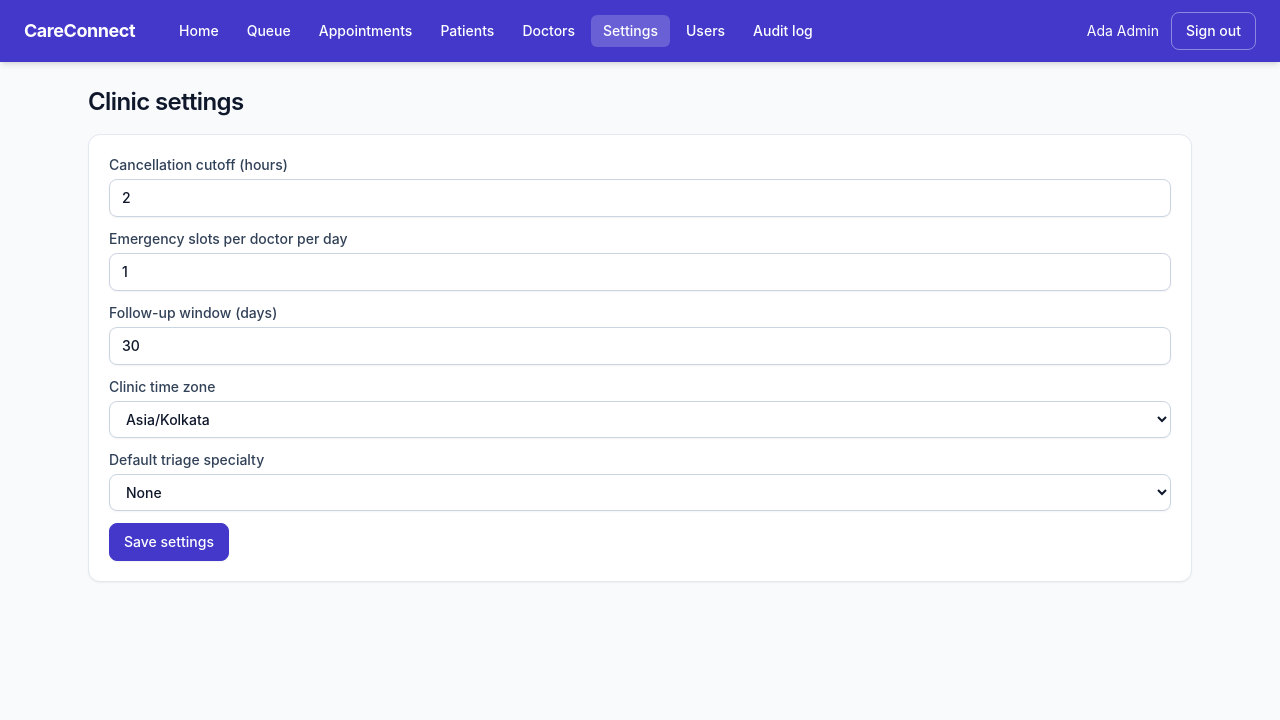
Test: Clinic settings page › can set the default triage specialty
Select "General Medicine" in the dropdown labelled "Default triage specialty" at (640, 492), box [109,474,1171,511]
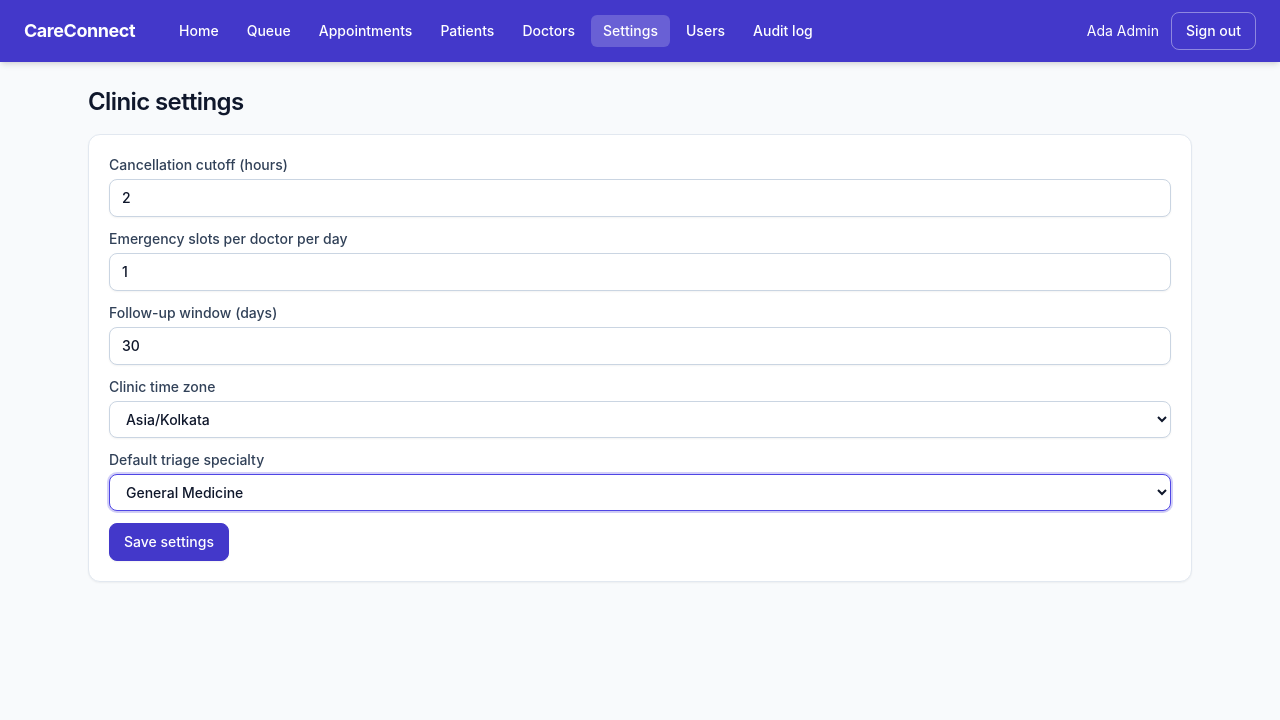
Click the button "Save settings" at (169, 542), box [109,523,229,561]
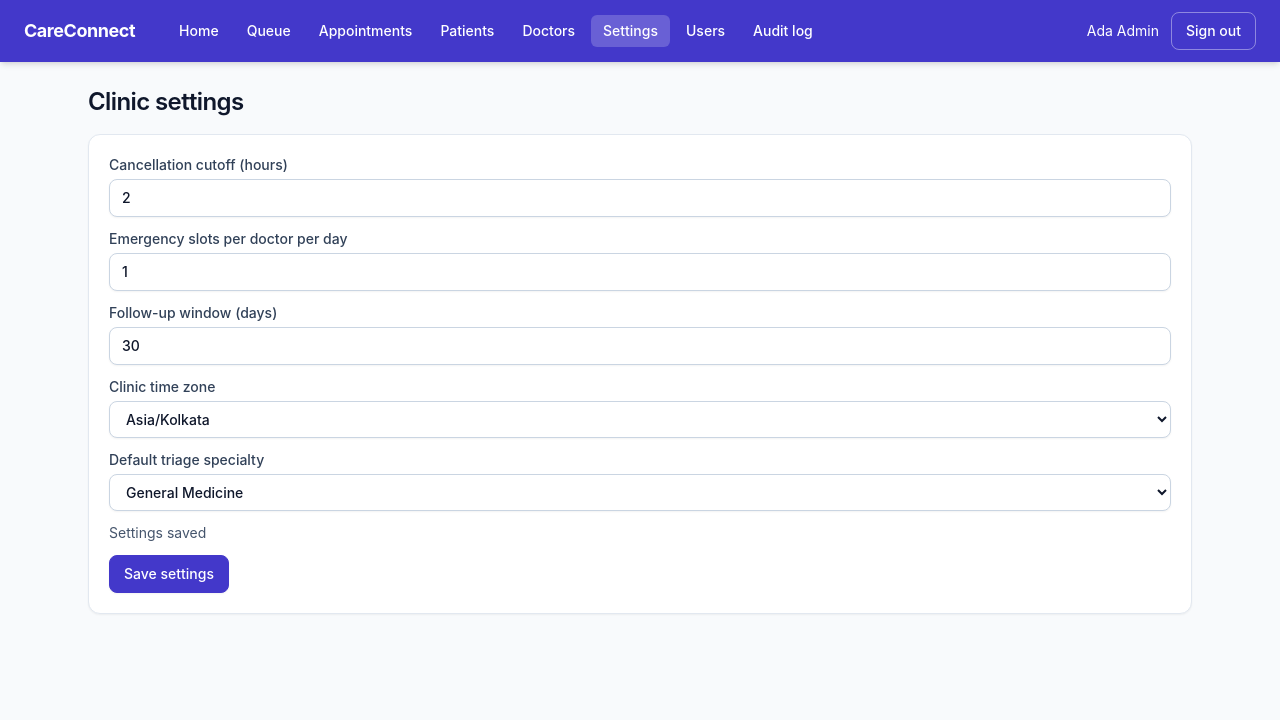
Expected: the text "Settings saved" is shown, [109,524,206,541]
